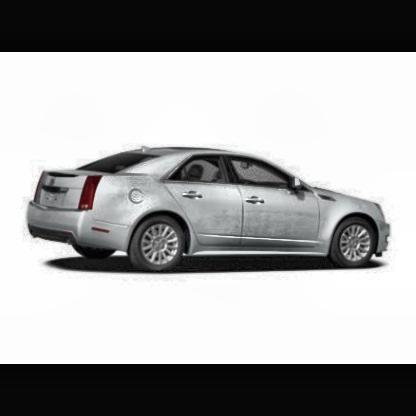Cadillac CTS-V Sedan 2012: (31, 146, 392, 272)
